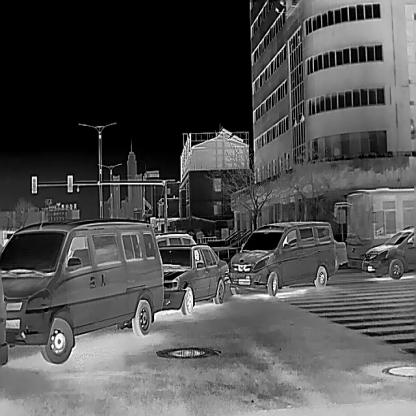bus: (334, 186, 416, 269)
car: (0, 217, 163, 363), (228, 220, 335, 296), (156, 243, 230, 314), (361, 224, 415, 278), (331, 237, 347, 271), (155, 233, 197, 244)
